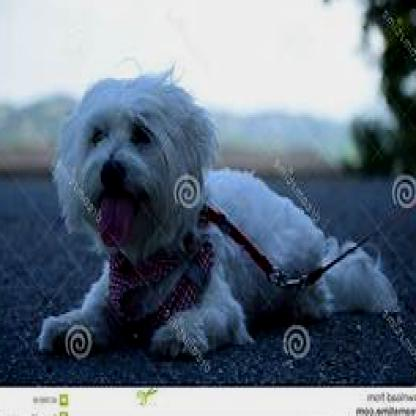dog: (36, 76, 397, 355)
